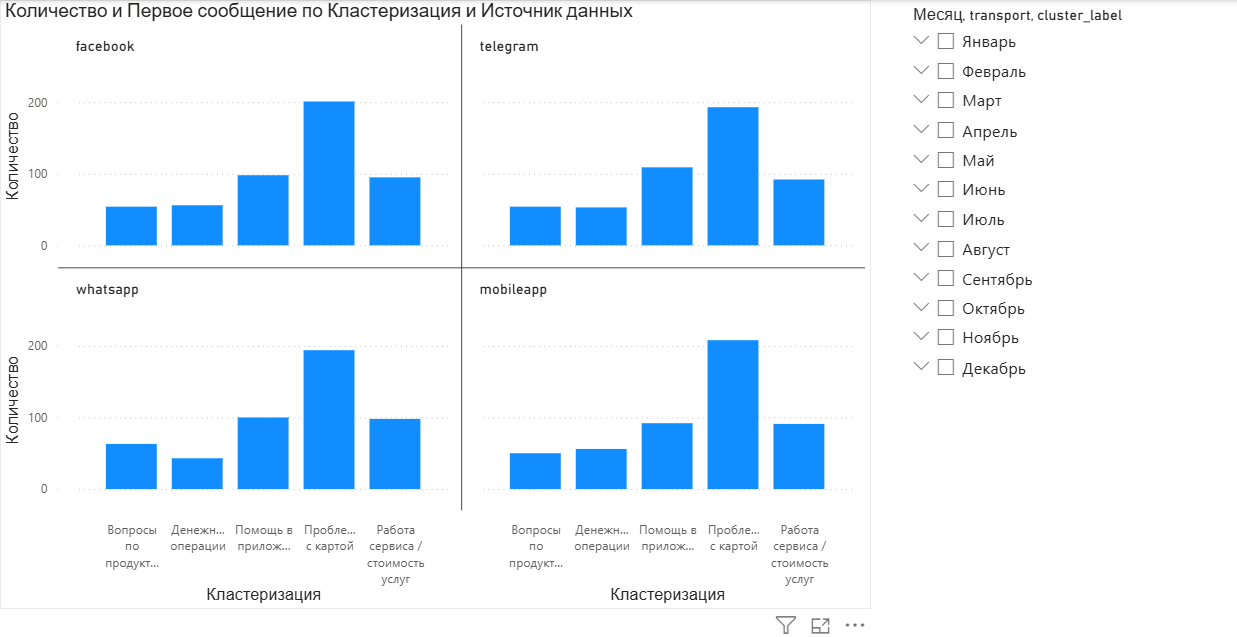

The page's visual inventory and layout, read from the dashboard file:
{"tool":"powerbi","page":{"name":"Страница 1","canvas":[1280,720],"ordinal":0},"visuals":[{"type":"columnChart","fields":{"Category":["messages_with_clusters.cluster_label"],"Y":["CountNonNull(messages_with_clusters.id)"],"Rows":["messages_with_clusters.transport"]},"box":[0,0,851.7,595.7],"z":0},{"type":"slicer","fields":{"Values":["messages_with_clusters.created.Изменение.Иерархия дат.Месяц","messages_with_clusters.transport","messages_with_clusters.cluster_label"]},"box":[880.9,0,399.3,431.2],"z":1000}]}

Visuals, with their boxes on the page's 1280x720 design canvas (x1, y1, x2, y2). These are canvas units, not pixel positions in the 1237x637 screenshot, which may show the page scaled, cropped or inside an application window:
columnChart - messages_with_clusters.cluster_label x CountNonNull(messages_with_clusters.id): <box>0,0,852,596</box>
slicer - messages_with_clusters.created.Изменение.Иерархия дат.Месяц x messages_with_clusters.transport: <box>881,0,1280,431</box>
